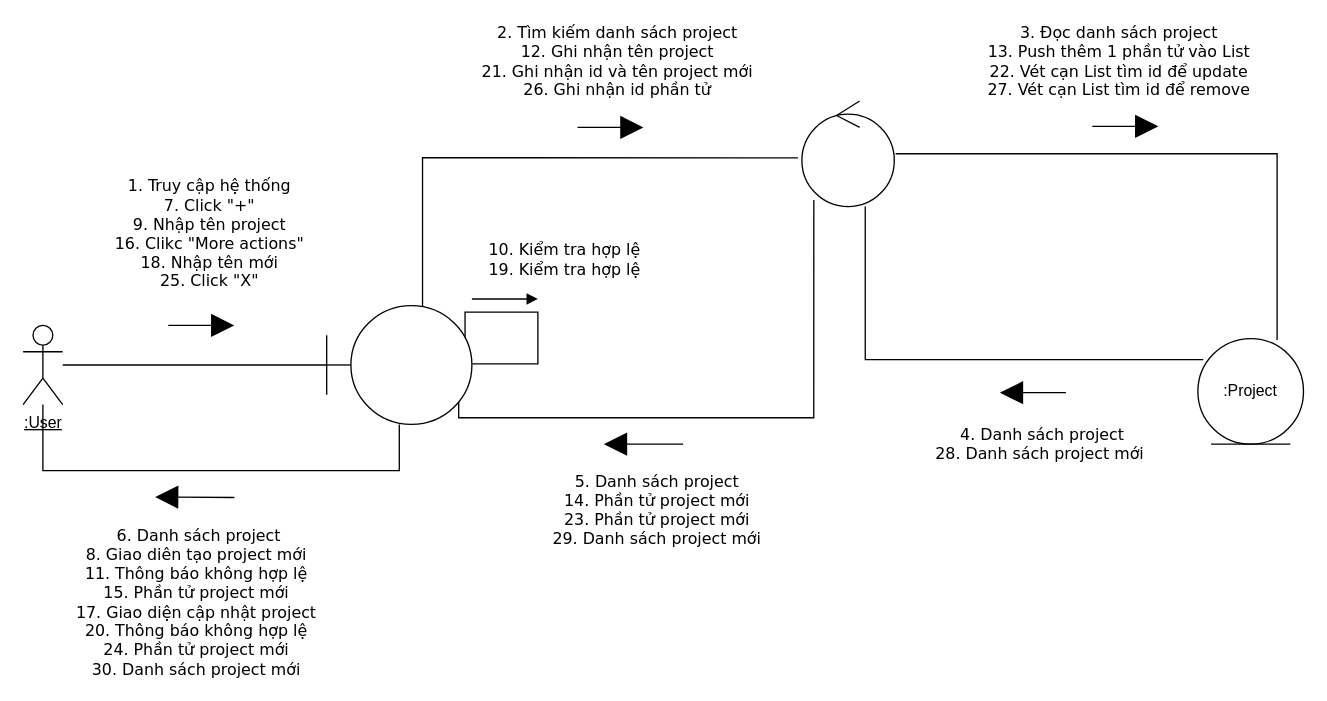
Image size: 1327x701. Some labels were removed from this diagram. Here are the shapes that lost their labels. From the top down, the centre of each, then its label:
(x=847, y=153): :Project Controller
(x=398, y=364): :Trang MyTask
